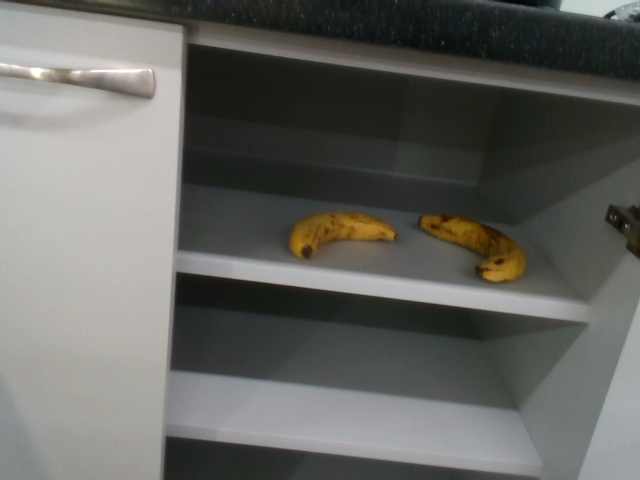banana: (416, 212, 529, 283), (288, 208, 396, 262)
